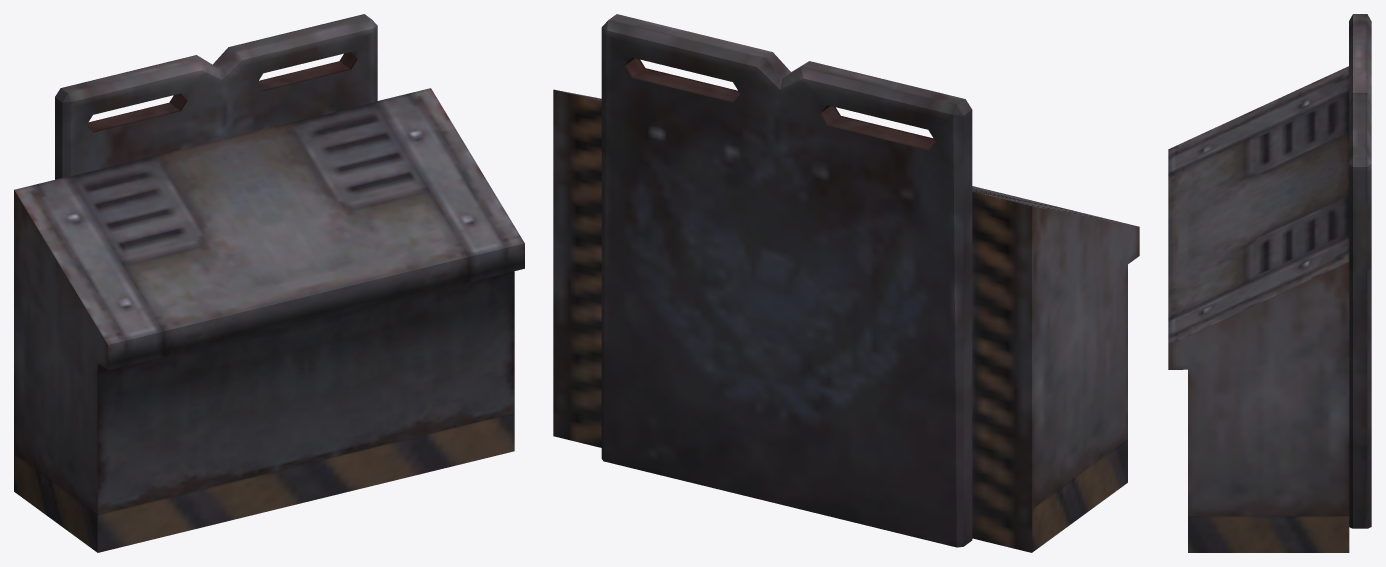
The model's file is zc_lekesigang_tietong01.FBX.
3 views of the same model, side by side, from view 1: azimuth 30°, elevation 25°; view 2: azimuth 150°, elevation 25°; view 3: azimuth 270°, elevation 25° (orthographic). The views are drawn at different scales.
Parts seen in each view (by area): view 1: zc_lekesigang_tietong01; view 2: zc_lekesigang_tietong01; view 3: zc_lekesigang_tietong01.
Part boxes in pixels (x1,y1,x2,y2): zc_lekesigang_tietong01: (14,14,524,552); zc_lekesigang_tietong01: (553,14,1139,552); zc_lekesigang_tietong01: (1168,14,1371,552).
Size of the model in its own units: 467 by 411 by 205.
